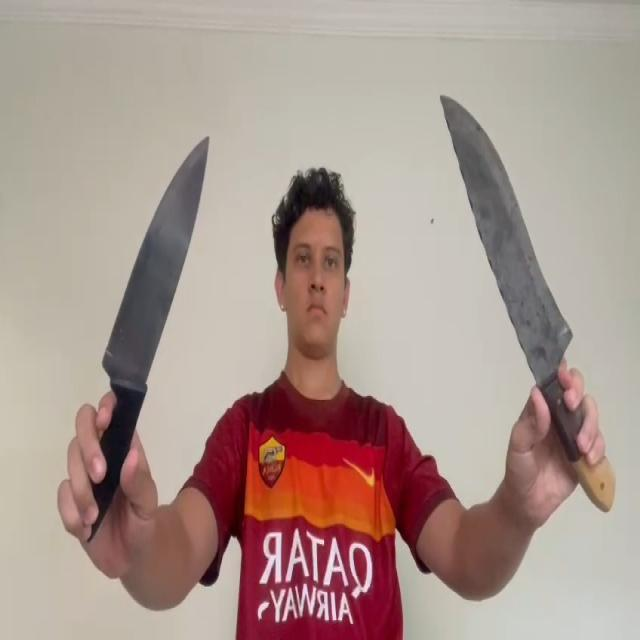knife: (440, 93, 574, 370), (100, 136, 212, 383)
